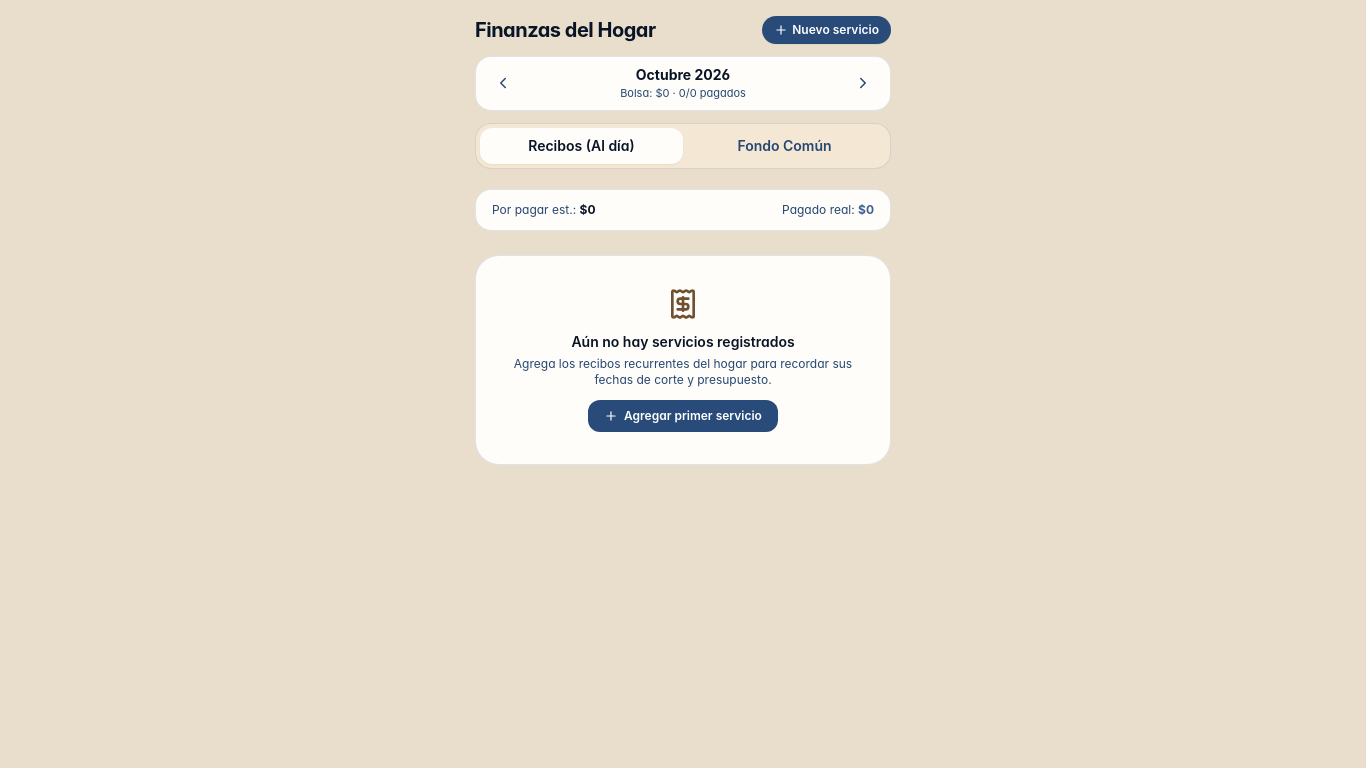
Test: FinanzasView Component Tests (Real UI) › renders empty state when there are no registered services and allows opening creation modal
Expected: the text "Aún no hay servicios registrados" is shown, [571,332,795,350]
Click the button "Agregar primer servicio" at (683, 416), box [588,400,778,432]
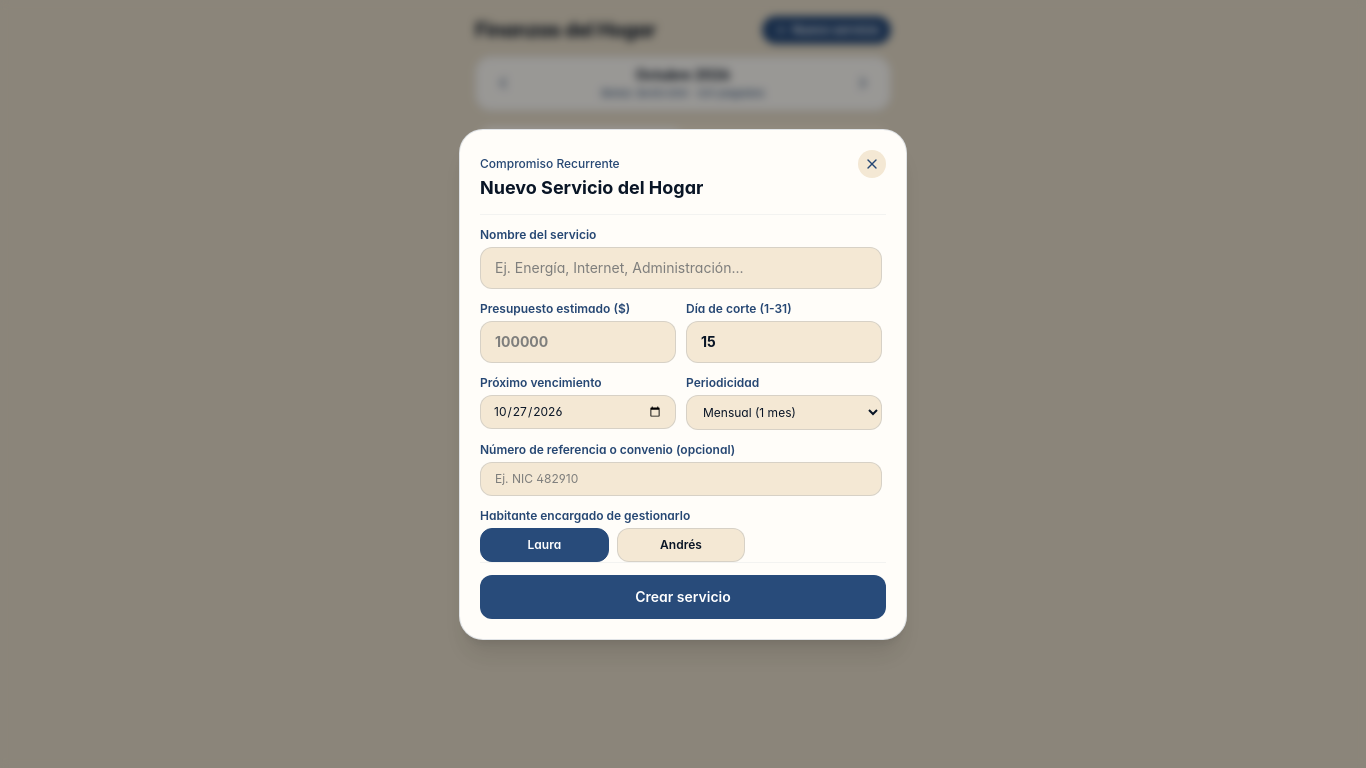
Expected: the heading "Nuevo Servicio del Hogar" is shown, [480,174,703,202]
